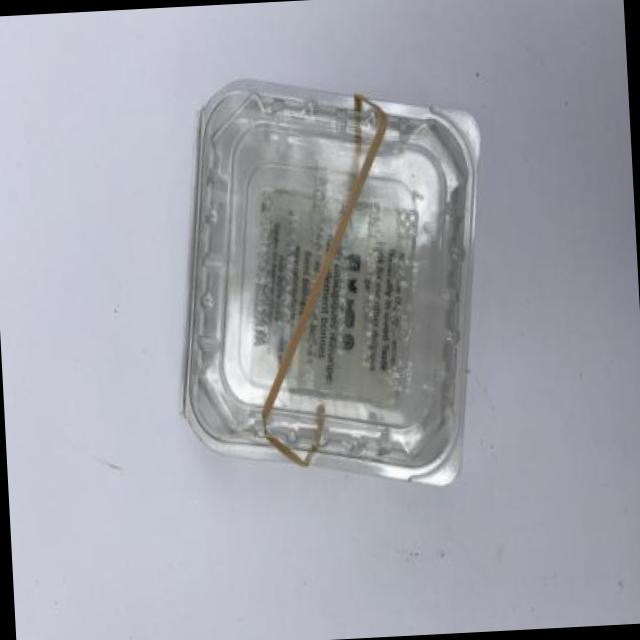Recycle: (166, 65, 500, 507)
